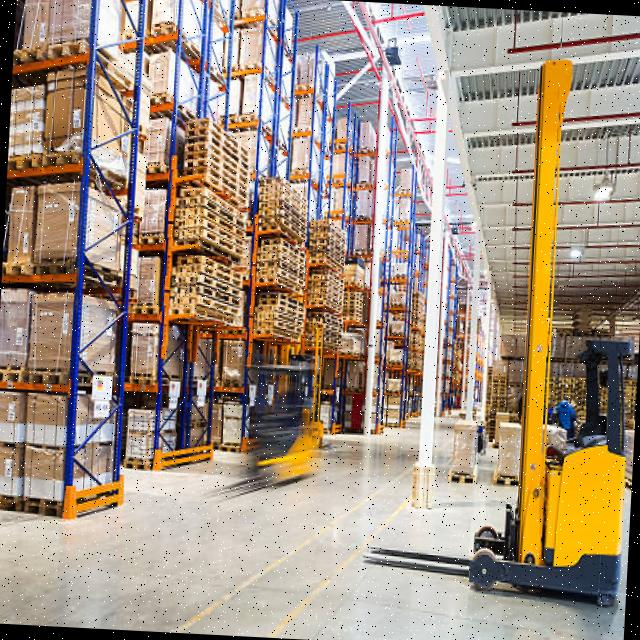Wooden-Pallets: (41, 29, 88, 69), (41, 139, 87, 178), (33, 252, 73, 282), (28, 366, 66, 396), (444, 466, 478, 490), (490, 472, 520, 492)
